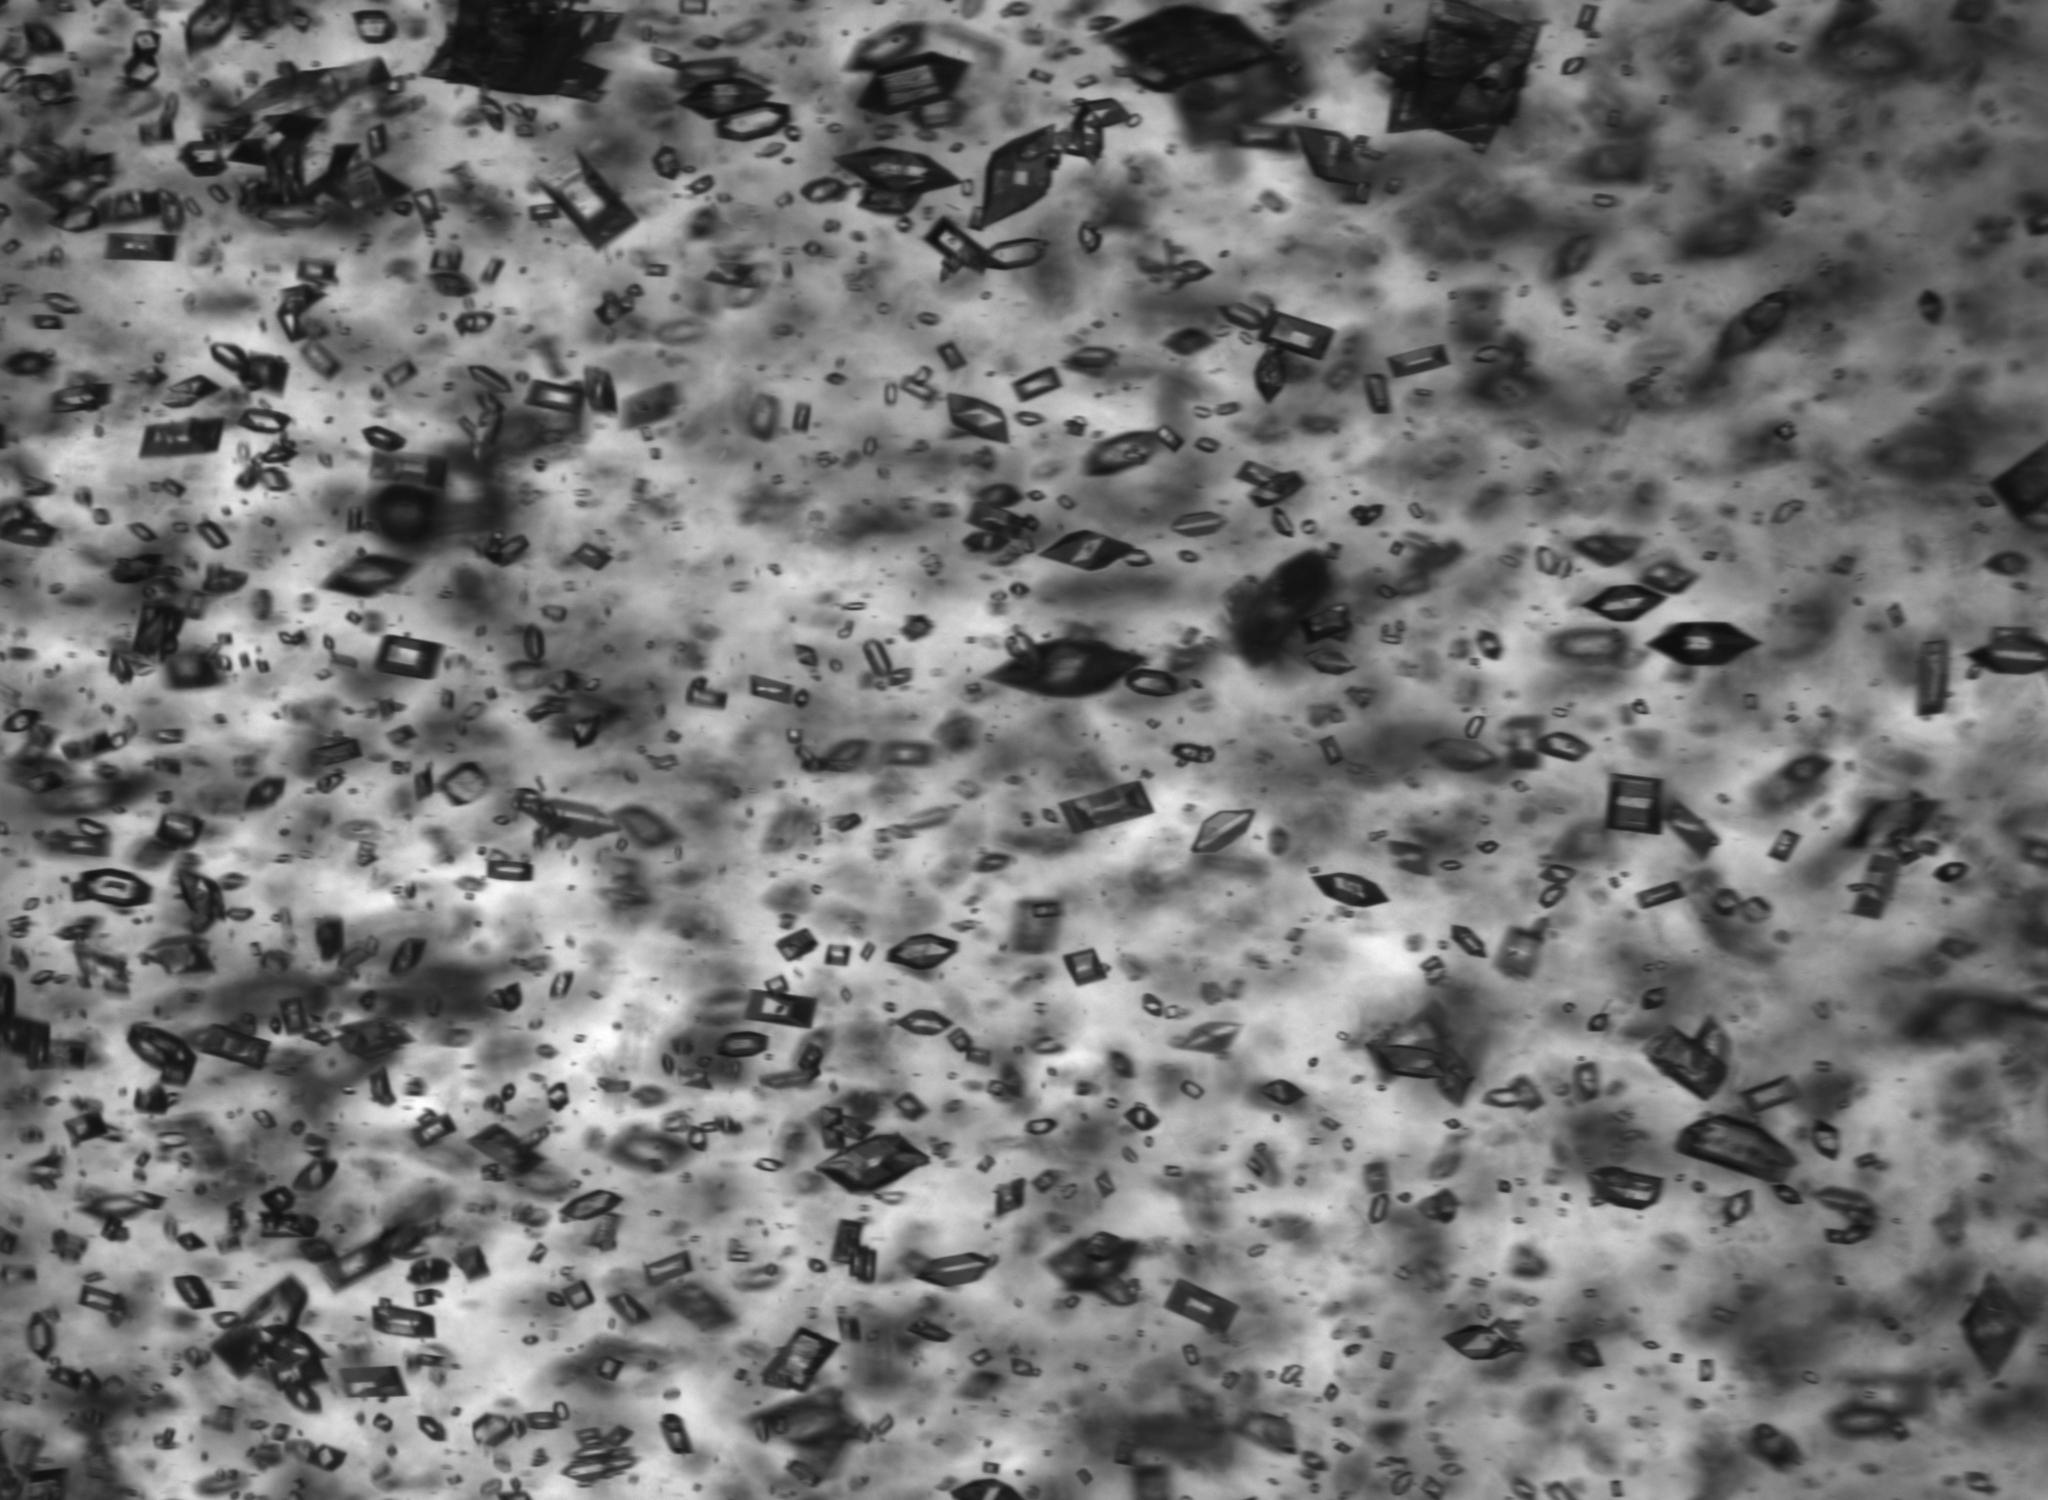crystal: (202, 54, 410, 227), (1371, 0, 1539, 143), (420, 0, 620, 103), (213, 1277, 329, 1411), (1097, 5, 1274, 92), (1366, 1004, 1476, 1107), (981, 631, 1145, 697), (537, 151, 638, 248), (836, 146, 957, 216), (1641, 1013, 1732, 1104), (1676, 1113, 1795, 1180), (1956, 1271, 2026, 1382), (981, 122, 1053, 227), (859, 51, 970, 115), (1048, 1233, 1140, 1304), (817, 1136, 929, 1193), (1056, 781, 1153, 834), (762, 1328, 840, 1392), (1843, 800, 1945, 848), (1650, 622, 1759, 666), (1037, 530, 1150, 571), (464, 1123, 549, 1177), (1293, 126, 1366, 188), (558, 1427, 636, 1481), (1164, 1279, 1239, 1335), (127, 1024, 197, 1083), (525, 799, 623, 840), (213, 340, 288, 394), (1965, 625, 2046, 674), (744, 975, 817, 1029), (679, 78, 774, 119), (924, 215, 989, 275), (323, 554, 413, 597), (321, 1239, 391, 1292), (1261, 312, 1334, 361), (1232, 461, 1305, 511), (1603, 776, 1665, 834), (1663, 800, 1720, 862), (140, 417, 224, 458), (716, 100, 793, 145), (196, 1023, 270, 1069), (1587, 1166, 1663, 1210), (1849, 853, 1899, 921), (1817, 1187, 1876, 1244), (129, 604, 186, 662), (331, 1020, 417, 1058), (908, 1252, 997, 1288), (1086, 431, 1159, 476), (70, 869, 151, 908), (367, 449, 448, 488), (946, 393, 1010, 442), (828, 1218, 878, 1282), (375, 635, 445, 679), (277, 283, 329, 342), (1189, 810, 1256, 856), (1584, 584, 1663, 622), (72, 946, 129, 997), (1442, 1325, 1522, 1362), (140, 935, 213, 975), (1420, 736, 1498, 771), (886, 934, 957, 970), (370, 1298, 436, 1338), (1480, 1074, 1544, 1113), (1313, 873, 1388, 907), (1741, 1074, 1803, 1113), (95, 189, 162, 226), (178, 870, 226, 919), (1918, 641, 1948, 717), (964, 501, 1024, 539), (122, 30, 161, 91), (979, 237, 1048, 270), (340, 1365, 405, 1400), (523, 380, 585, 417), (1062, 97, 1132, 129), (105, 232, 178, 262), (439, 762, 488, 805), (159, 375, 224, 407), (1387, 345, 1449, 379), (60, 730, 119, 765), (27, 1039, 86, 1074), (676, 57, 735, 92), (1302, 606, 1353, 646), (154, 810, 205, 849), (19, 75, 83, 107), (641, 1250, 693, 1288), (560, 1190, 622, 1222), (51, 383, 113, 415), (1641, 558, 1697, 593), (1181, 1021, 1242, 1053), (307, 738, 367, 770), (1073, 102, 1104, 165), (176, 142, 229, 178), (299, 339, 343, 382), (62, 1109, 111, 1147), (17, 1465, 70, 1500), (1062, 948, 1110, 986), (1013, 367, 1062, 404), (949, 1478, 1027, 1500), (1255, 347, 1285, 404), (0, 517, 57, 547), (1539, 732, 1593, 764), (584, 366, 617, 417), (1539, 864, 1576, 910), (773, 927, 819, 964), (412, 1112, 458, 1148), (108, 554, 164, 584), (46, 204, 100, 234), (75, 1284, 126, 1315), (353, 10, 399, 45), (607, 1293, 655, 1327), (83, 1195, 145, 1220), (172, 1274, 215, 1311), (242, 776, 286, 811), (714, 1031, 771, 1058), (261, 1214, 321, 1239), (1172, 512, 1228, 539), (235, 407, 291, 434), (658, 1413, 693, 1455), (1387, 840, 1429, 875), (1638, 880, 1687, 910), (356, 423, 405, 453), (294, 1158, 340, 1190), (1304, 647, 1358, 674), (472, 1413, 514, 1448), (747, 674, 795, 705), (27, 1311, 54, 1363), (1127, 668, 1177, 697), (1216, 302, 1266, 331), (490, 533, 531, 566), (469, 364, 514, 394), (898, 1010, 951, 1036), (455, 1244, 490, 1282), (703, 264, 755, 290), (900, 364, 933, 404), (388, 938, 428, 972), (278, 994, 310, 1036), (482, 981, 523, 1013), (1162, 329, 1213, 355), (800, 177, 848, 204), (429, 270, 477, 297), (1452, 924, 1488, 959), (762, 1066, 819, 1088), (825, 1115, 875, 1141), (305, 1441, 347, 1471), (1259, 1080, 1307, 1106), (596, 296, 634, 328), (1062, 347, 1116, 369), (1363, 372, 1390, 417), (650, 143, 681, 183), (1767, 829, 1802, 862), (561, 1279, 596, 1312), (259, 1183, 296, 1215), (684, 684, 727, 711), (380, 358, 418, 388), (863, 638, 892, 678), (995, 1177, 1024, 1217), (784, 1459, 824, 1487), (22, 770, 67, 795), (1813, 1120, 1840, 1161), (409, 1258, 450, 1285), (892, 1091, 929, 1121), (1169, 743, 1215, 767), (296, 256, 336, 283), (485, 859, 533, 881), (1984, 552, 2029, 576), (976, 484, 1021, 507), (571, 544, 612, 569), (820, 1107, 846, 1148), (2, 708, 43, 733), (138, 118, 175, 146), (1566, 1339, 1604, 1366), (1121, 1104, 1159, 1131), (964, 531, 1010, 554), (452, 312, 495, 336), (415, 186, 440, 226), (480, 92, 506, 132), (196, 520, 229, 550), (86, 153, 114, 188), (908, 1320, 952, 1343), (370, 1066, 394, 1106), (571, 714, 598, 749), (1736, 897, 1773, 923), (41, 293, 83, 315), (937, 340, 967, 371), (1724, 1190, 1751, 1223), (1318, 733, 1345, 765), (523, 620, 544, 662), (129, 1190, 167, 1212), (1477, 628, 1501, 663), (75, 816, 110, 840), (417, 1414, 445, 1443), (1709, 889, 1740, 916), (304, 1131, 331, 1161), (1159, 423, 1185, 455), (46, 1365, 78, 1390), (65, 835, 103, 856), (1962, 1471, 1997, 1494), (385, 724, 420, 746), (75, 1368, 103, 1395), (1078, 223, 1104, 253), (259, 468, 289, 493), (604, 1424, 636, 1448), (1270, 506, 1294, 538), (525, 1411, 561, 1432), (1177, 261, 1213, 282), (677, 1067, 714, 1088), (975, 853, 1011, 873), (429, 250, 463, 272), (479, 256, 506, 283), (547, 1083, 571, 1113), (550, 969, 574, 999), (127, 520, 157, 544), (650, 46, 681, 70), (183, 589, 207, 619), (413, 767, 432, 803), (1029, 1036, 1065, 1055), (1367, 1191, 1388, 1225), (598, 1357, 625, 1382), (946, 1028, 973, 1053), (1030, 1169, 1059, 1193), (1352, 504, 1382, 527), (1934, 862, 1965, 883), (175, 1231, 207, 1252), (1422, 1475, 1447, 1500), (798, 1043, 824, 1069), (1574, 3, 1598, 30), (261, 445, 297, 463), (792, 401, 811, 434), (1094, 1171, 1115, 1201), (1472, 347, 1507, 364), (690, 33, 725, 51), (1773, 1185, 1805, 1204), (1024, 1117, 1056, 1136), (528, 204, 560, 223), (838, 1315, 862, 1341), (1113, 1441, 1137, 1467), (965, 1045, 992, 1067), (159, 477, 186, 499), (248, 1109, 277, 1129), (1030, 902, 1064, 919), (102, 1215, 122, 1242), (1641, 988, 1665, 1010), (690, 173, 714, 196), (205, 181, 231, 202), (32, 315, 68, 329), (113, 655, 132, 682), (154, 756, 181, 775), (156, 1131, 188, 1147), (793, 644, 816, 666), (825, 945, 851, 964), (688, 1126, 708, 1152), (752, 1156, 785, 1171), (1374, 582, 1401, 600), (1027, 67, 1054, 84), (372, 1411, 393, 1433), (1391, 1473, 1412, 1495), (528, 1242, 549, 1265), (461, 703, 487, 721), (835, 814, 860, 832), (679, 0, 709, 14), (153, 729, 183, 743), (347, 506, 363, 533), (1282, 1363, 1302, 1384), (270, 1420, 291, 1441), (1245, 1156, 1266, 1177), (975, 1153, 995, 1174), (1143, 994, 1162, 1016), (1561, 56, 1584, 75), (1181, 1344, 1200, 1366), (1466, 716, 1484, 740), (1590, 192, 1614, 210), (542, 603, 566, 620), (1011, 1360, 1035, 1378), (1072, 75, 1100, 89), (1194, 437, 1220, 453), (652, 754, 677, 770), (1775, 423, 1795, 442), (1181, 1080, 1202, 1099), (413, 1288, 434, 1308), (873, 1414, 892, 1435), (1221, 1370, 1240, 1390), (224, 907, 254, 919), (1854, 1152, 1878, 1168), (968, 1349, 992, 1365), (968, 207, 984, 231), (1588, 1015, 1608, 1034), (1016, 412, 1045, 425), (914, 310, 940, 324), (1379, 1350, 1396, 1371), (1698, 1360, 1714, 1382), (32, 970, 54, 986), (1323, 1384, 1340, 1403), (553, 1401, 569, 1422), (92, 509, 113, 525), (1477, 840, 1499, 854), (1407, 501, 1425, 519), (440, 687, 453, 711), (860, 942, 876, 961), (1332, 1441, 1353, 1455), (545, 1292, 566, 1306), (506, 102, 526, 116), (415, 1355, 445, 1365), (644, 264, 666, 277), (1041, 808, 1059, 824), (1422, 956, 1439, 972), (1604, 320, 1623, 334), (793, 689, 808, 708), (1328, 541, 1342, 560), (886, 382, 897, 406), (728, 1250, 749, 1263), (1162, 1164, 1183, 1177), (515, 124, 536, 137), (1010, 582, 1030, 595), (1388, 541, 1404, 557), (1076, 1468, 1092, 1484), (639, 426, 655, 442), (1743, 695, 1760, 709), (1057, 495, 1075, 509), (502, 1082, 514, 1104), (1437, 861, 1463, 870), (700, 1121, 719, 1134), (663, 1053, 674, 1074), (1800, 1371, 1817, 1384), (1194, 406, 1212, 418), (1024, 514, 1037, 531), (1248, 1244, 1266, 1257), (787, 729, 801, 743), (1636, 307, 1652, 320), (1027, 490, 1045, 501), (585, 678, 599, 690), (250, 942, 262, 956), (1643, 1339, 1660, 1349), (984, 1462, 999, 1473), (1445, 1120, 1461, 1129), (1499, 1180, 1511, 1193), (1561, 1002, 1574, 1013), (649, 449, 660, 460), (1670, 1354, 1682, 1362), (1377, 1400, 1388, 1408)
